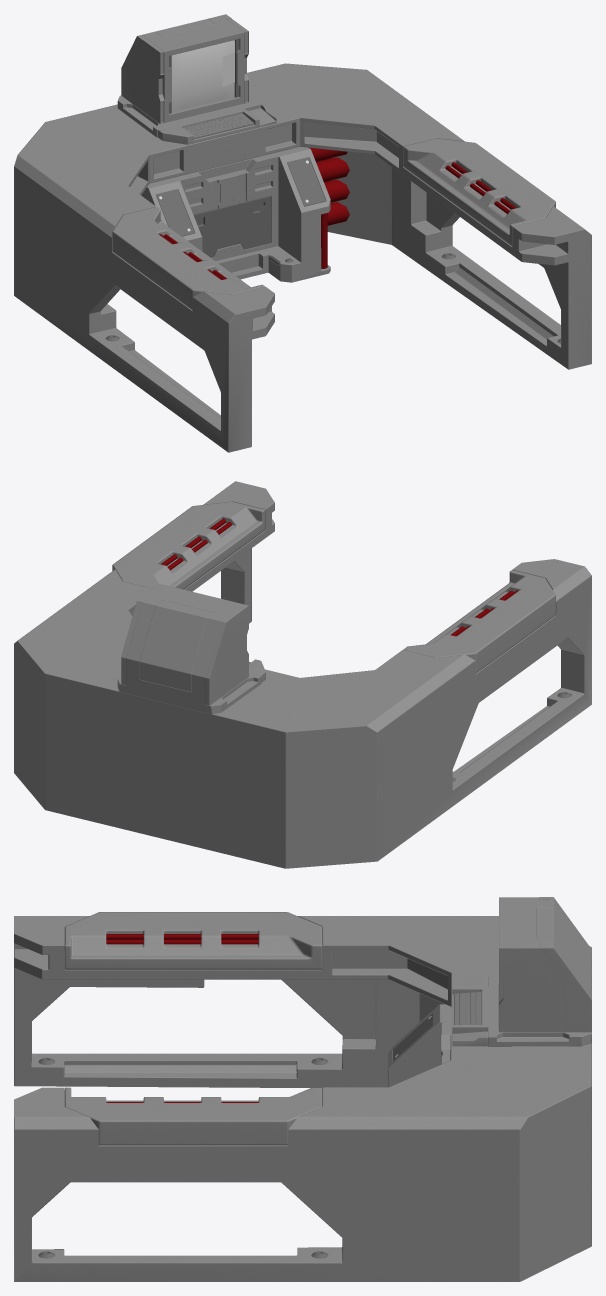
File: Ship_Room_Main_CCT_001.fbx
3 views of the same model, one above another, from view 1: azimuth 30°, elevation 25°; view 2: azimuth 150°, elevation 25°; view 3: azimuth 270°, elevation 25° (orthographic). The views are drawn at different scales.
Parts seen in each view (by area): view 1: CCT_V2:Ship_Room_Main_CCT_Desk_002_CCT_005_MetalBare1, CCT_V2:Ship_Room_Main_CCT_Screen_002_CCT_009_Light; view 2: CCT_V2:Ship_Room_Main_CCT_Desk_002_CCT_005_MetalBare1; view 3: CCT_V2:Ship_Room_Main_CCT_Desk_002_CCT_005_MetalBare1.
Boxes of the visible parts, x1,y1,x2,y2 form: CCT_V2:Ship_Room_Main_CCT_Desk_002_CCT_005_MetalBare1: [14, 14, 591, 452]; CCT_V2:Ship_Room_Main_CCT_Screen_002_CCT_009_Light: [171, 40, 234, 111]; CCT_V2:Ship_Room_Main_CCT_Desk_002_CCT_005_MetalBare1: [14, 481, 591, 868]; CCT_V2:Ship_Room_Main_CCT_Desk_002_CCT_005_MetalBare1: [14, 897, 591, 1281].
Bounding box in the file's own units: 0.3 × 0.1702 × 0.3501.
